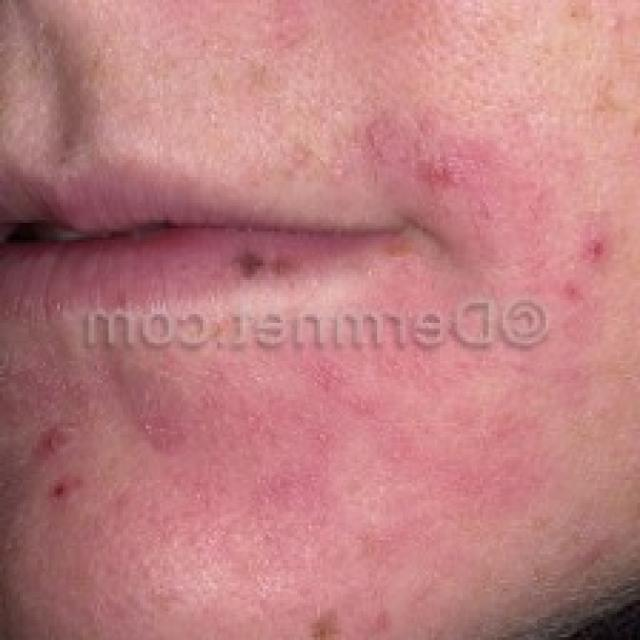Acne: (401, 135, 614, 293), (44, 420, 77, 508)
